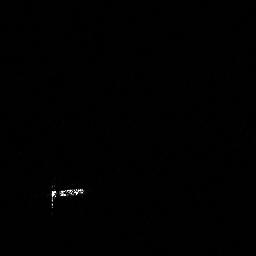ship: (46, 184, 87, 210)
